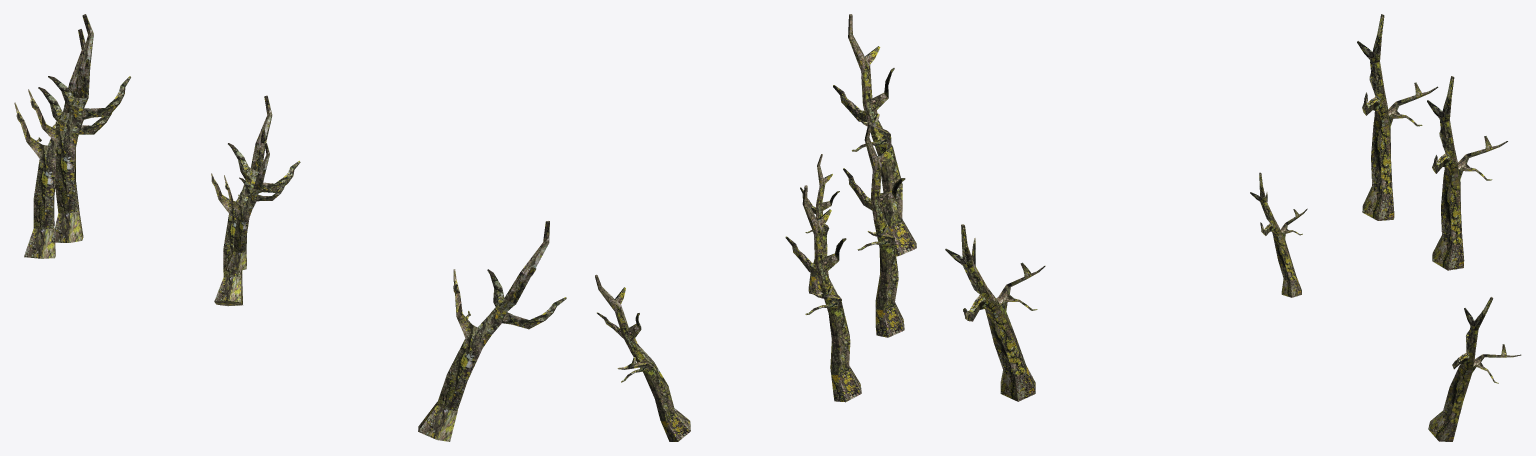
Rendered from trees01_placed.obj.
3 renders of one model, left to right at view 1: azimuth 30°, elevation 25°; view 2: azimuth 150°, elevation 25°; view 3: azimuth 270°, elevation 25°, orthographic. The views are drawn at different scales.
Parts seen in each view (by area): view 1: Cube_Cube.003, Cube.003_Cube.007, Cube.004_Cube.008, Cube.002_Cube.005, Cube.001_Cube.004; view 2: Cube_Cube.003, Cube.004_Cube.008, Cube.003_Cube.007, Cube.002_Cube.005, Cube.001_Cube.004; view 3: Cube_Cube.003, Cube.003_Cube.007, Cube.004_Cube.008, Cube.002_Cube.005, Cube.001_Cube.004.
Boxes of the visible parts, left/top/right/bottom form: Cube_Cube.003: left=418, top=221, right=566, bottom=441; Cube.003_Cube.007: left=28, top=14, right=130, bottom=242; Cube.004_Cube.008: left=14, top=29, right=111, bottom=258; Cube.002_Cube.005: left=211, top=95, right=300, bottom=306; Cube.001_Cube.004: left=224, top=143, right=289, bottom=270; Cube_Cube.003: left=833, top=14, right=916, bottom=256; Cube.004_Cube.008: left=785, top=185, right=861, bottom=402; Cube.003_Cube.007: left=843, top=122, right=905, bottom=337; Cube.002_Cube.005: left=595, top=274, right=690, bottom=441; Cube.001_Cube.004: left=800, top=154, right=839, bottom=294; Cube_Cube.003: left=945, top=224, right=1045, bottom=401; Cube.003_Cube.007: left=1357, top=14, right=1438, bottom=220; Cube.004_Cube.008: left=1427, top=76, right=1507, bottom=270; Cube.002_Cube.005: left=1428, top=297, right=1521, bottom=441; Cube.001_Cube.004: left=1250, top=172, right=1307, bottom=297.
Size of the model in its own units: 22.73 by 26.41 by 40.06.
